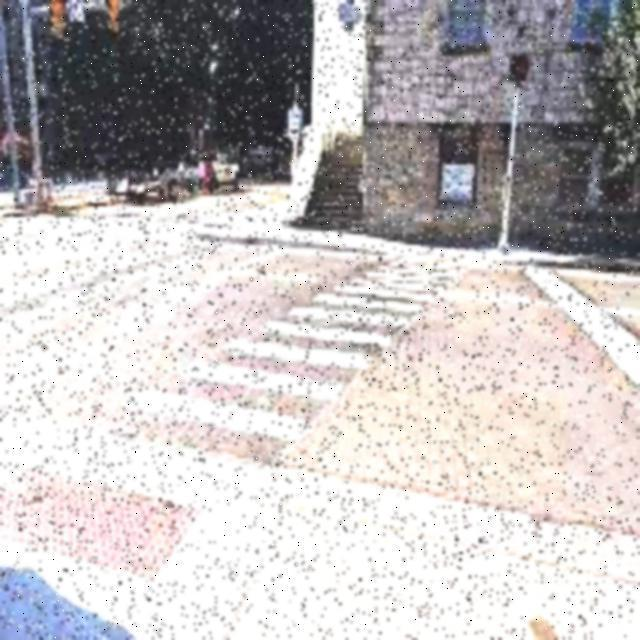Pedestrian crosswalk: (27, 249, 504, 480)
